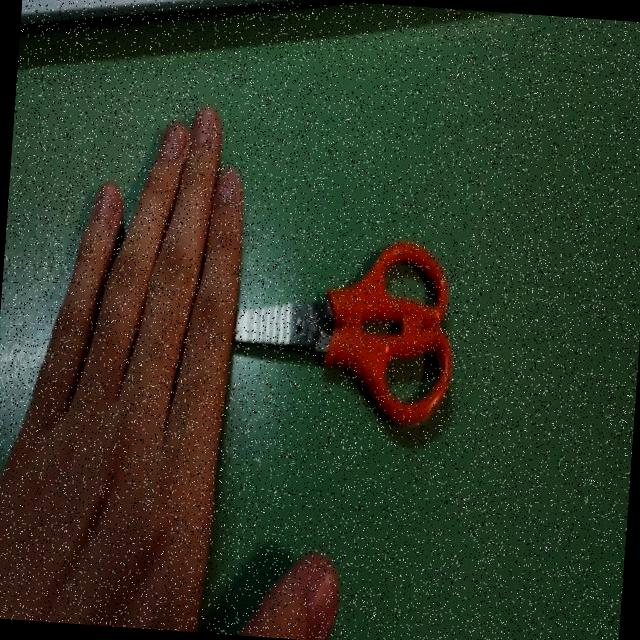scissors: (182, 214, 464, 438)
